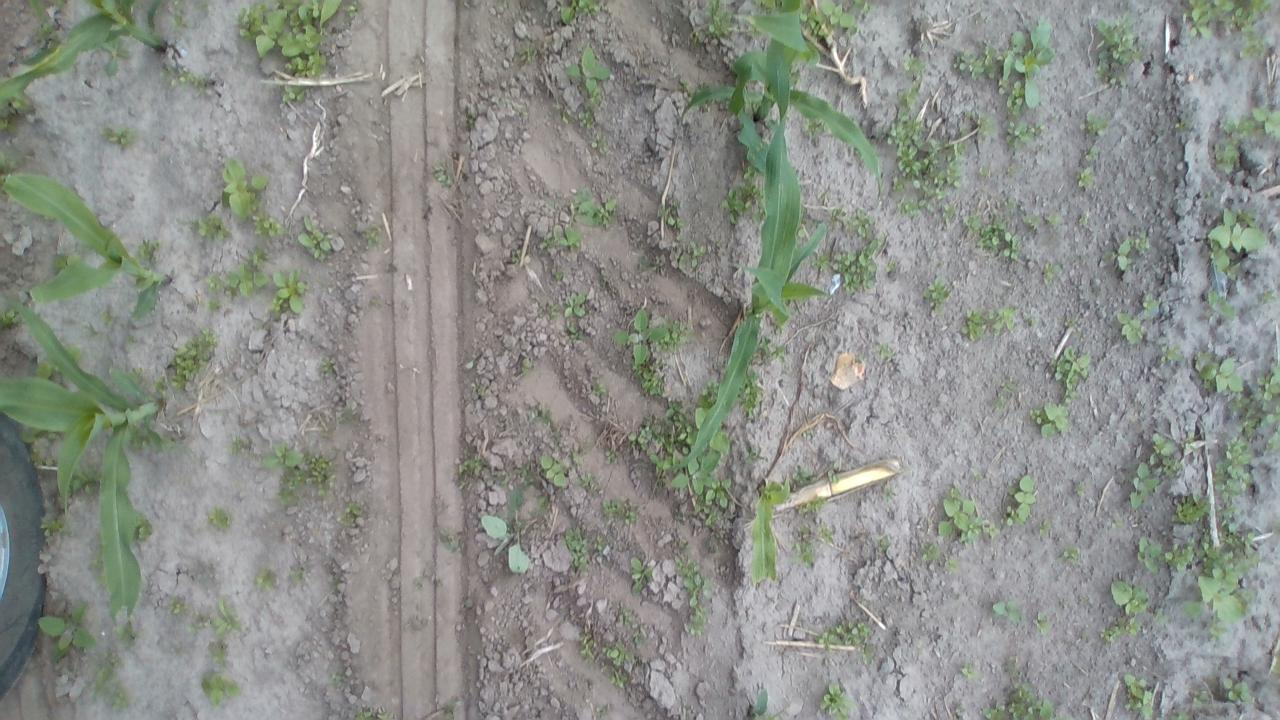Maize: (664, 1, 830, 480), (0, 292, 165, 616), (680, 0, 884, 195), (2, 168, 170, 326), (1, 0, 168, 103), (752, 477, 792, 587), (746, 685, 769, 720)
Weeds: (880, 75, 996, 214), (236, 0, 358, 100), (950, 17, 1062, 116), (1219, 397, 1280, 534), (168, 596, 246, 702), (1182, 0, 1274, 58), (1181, 573, 1254, 639), (1214, 106, 1280, 178), (1094, 11, 1154, 88), (633, 398, 695, 470), (672, 461, 739, 524), (1128, 432, 1180, 512), (672, 554, 722, 636), (205, 250, 270, 313), (1206, 206, 1268, 272), (1197, 522, 1265, 579), (814, 247, 884, 296), (479, 515, 534, 574), (934, 486, 985, 548), (41, 596, 97, 650), (614, 308, 667, 364), (564, 40, 612, 99), (978, 683, 1052, 720), (220, 157, 264, 219), (961, 215, 1019, 262), (797, 0, 868, 38), (172, 327, 217, 384), (1048, 347, 1098, 393), (508, 467, 550, 519), (1194, 351, 1244, 393), (1105, 226, 1151, 271), (964, 303, 1015, 343), (563, 524, 605, 572), (1002, 472, 1038, 526), (570, 188, 620, 226), (91, 656, 126, 708), (1026, 397, 1070, 437), (832, 203, 878, 240), (268, 272, 308, 314), (1109, 580, 1153, 618), (1122, 673, 1158, 719), (297, 214, 335, 256), (459, 450, 498, 488), (1204, 285, 1244, 322), (604, 642, 636, 688), (818, 616, 874, 642), (602, 494, 644, 528), (260, 439, 304, 469), (615, 606, 651, 642), (191, 600, 237, 628), (793, 526, 821, 572), (922, 277, 955, 316), (1102, 616, 1142, 648), (196, 672, 238, 702), (1172, 492, 1209, 526), (822, 682, 854, 720), (303, 452, 333, 492), (1004, 120, 1046, 148), (1115, 310, 1149, 344), (706, 1, 736, 39), (659, 202, 698, 230), (540, 456, 570, 492), (639, 362, 668, 398), (1162, 542, 1194, 574), (632, 558, 659, 595), (561, 0, 597, 27), (30, 447, 59, 480), (1079, 108, 1117, 133), (721, 186, 746, 224), (1137, 535, 1161, 574), (278, 468, 302, 507), (104, 40, 135, 70), (1258, 358, 1280, 398), (744, 373, 764, 417), (337, 494, 368, 522), (168, 64, 204, 88), (194, 216, 233, 238), (1079, 150, 1099, 192), (743, 171, 765, 208), (818, 524, 848, 550), (760, 336, 789, 362), (102, 123, 136, 145), (1224, 677, 1255, 701), (72, 468, 98, 496), (664, 322, 688, 352), (519, 38, 544, 66), (524, 407, 562, 425), (710, 430, 736, 456), (558, 227, 586, 250), (576, 108, 605, 130), (207, 506, 232, 531), (743, 443, 769, 467), (1025, 212, 1064, 228), (564, 293, 590, 317), (994, 598, 1022, 620), (254, 214, 282, 236), (120, 620, 140, 650), (1158, 342, 1180, 369), (580, 622, 596, 658), (802, 498, 834, 516), (575, 472, 601, 494), (232, 435, 254, 461), (442, 530, 472, 549), (39, 518, 67, 538), (0, 152, 19, 181), (137, 239, 163, 260), (688, 242, 706, 272), (206, 640, 230, 662), (54, 250, 79, 270), (1039, 260, 1058, 286), (434, 164, 454, 187), (1061, 545, 1085, 564), (1032, 613, 1054, 633), (84, 320, 104, 342), (1, 307, 22, 327), (940, 200, 961, 220), (316, 359, 338, 378), (35, 360, 57, 378), (872, 344, 896, 360), (366, 223, 382, 247), (792, 466, 810, 487), (520, 348, 535, 373), (589, 133, 608, 152), (1192, 689, 1210, 709), (922, 537, 939, 558), (12, 93, 34, 109), (902, 55, 926, 69), (1170, 705, 1192, 720), (1139, 292, 1159, 308), (258, 568, 272, 590), (960, 662, 979, 678), (471, 377, 490, 393), (566, 322, 585, 338), (68, 345, 88, 360), (1260, 285, 1278, 301), (174, 10, 190, 28), (156, 376, 175, 391), (538, 230, 553, 248), (100, 305, 118, 320), (945, 556, 961, 572), (590, 380, 607, 395), (1109, 514, 1123, 532), (1170, 118, 1188, 132), (550, 265, 564, 281), (876, 536, 892, 550), (1072, 479, 1086, 495), (1038, 522, 1051, 538), (0, 115, 12, 132), (992, 396, 1008, 408), (126, 332, 142, 344), (986, 522, 999, 536), (828, 470, 841, 483), (355, 710, 375, 718)
